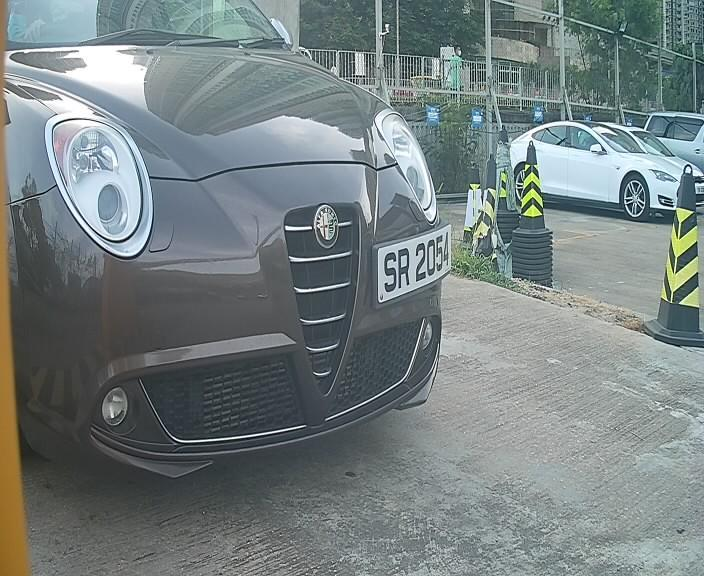privatecar: (10, 8, 478, 471)
